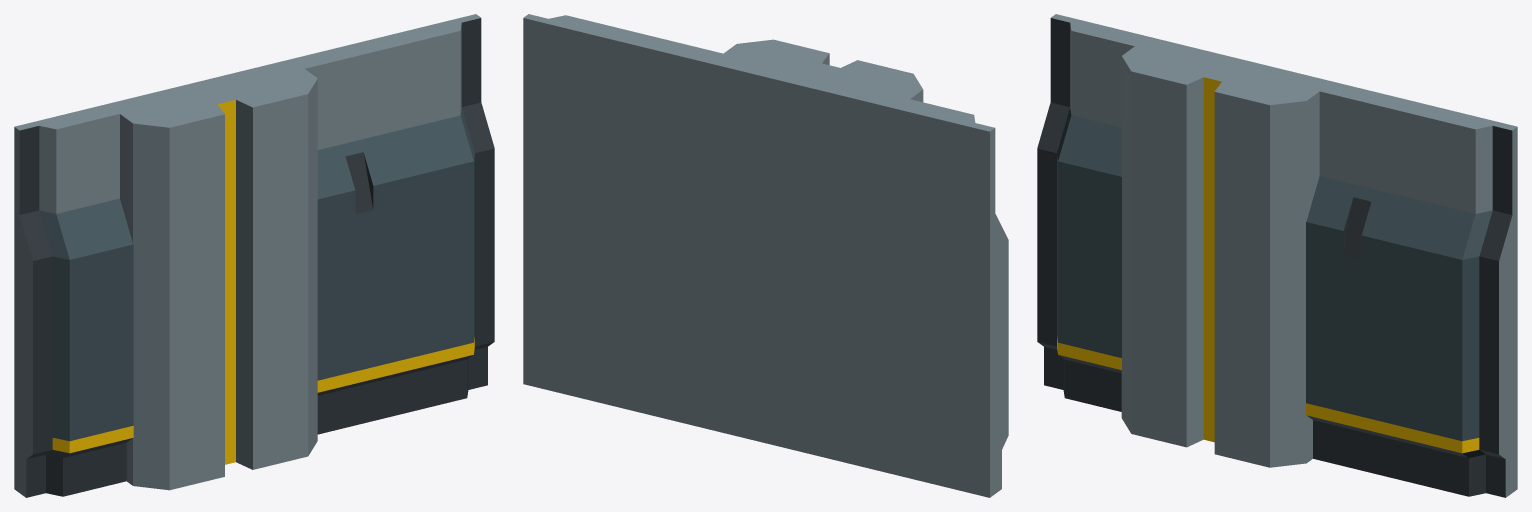
File: Wall_type_C_043.glb
3 views of the same model, side by side, from view 1: azimuth 30°, elevation 25°; view 2: azimuth 150°, elevation 25°; view 3: azimuth 330°, elevation 25° (orthographic).
Visible parts, largest first — view 1: Wall_type_C_043; view 2: Wall_type_C_043; view 3: Wall_type_C_043.
Boxes of the visible parts, x1=… form: Wall_type_C_043: x1=14, y1=14, x2=494, y2=497; Wall_type_C_043: x1=523, y1=14, x2=1008, y2=497; Wall_type_C_043: x1=1037, y1=14, x2=1517, y2=497.
Bounding box in the file's own units: 2 × 1.5 × 0.3.
Materials: 1 (1 with a texture image).
